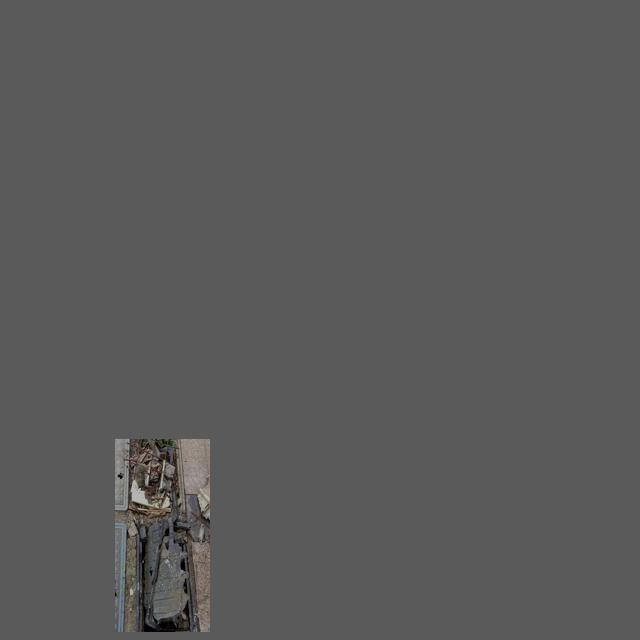broke: (132, 521, 199, 632), (126, 439, 185, 513)
